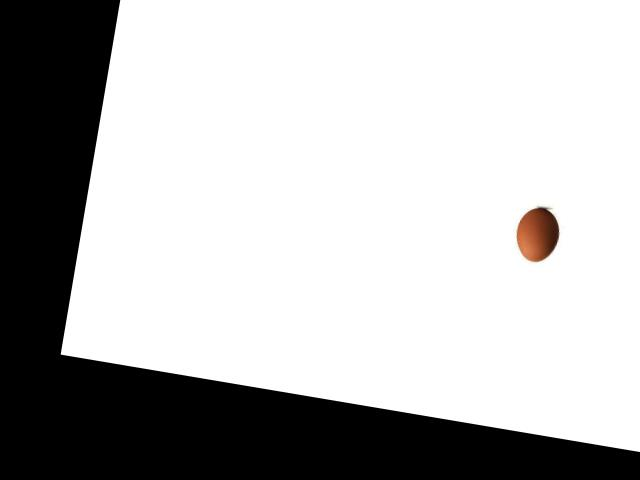egg: (513, 204, 563, 264)
